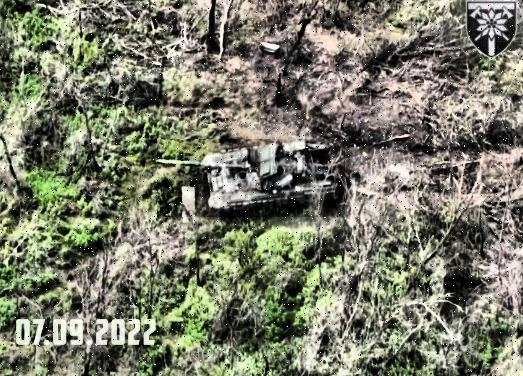military-vehicle: (158, 140, 346, 218)
